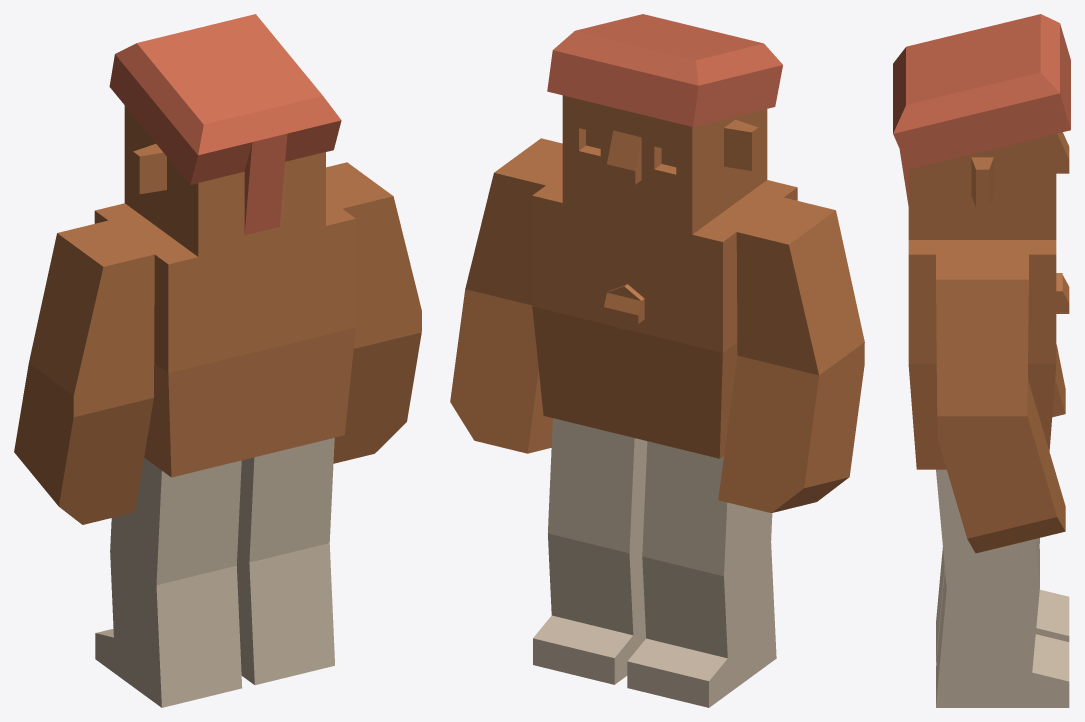
File: pirate_crew.glb
3 views of the same model, side by side, from view 1: azimuth 30°, elevation 25°; view 2: azimuth 150°, elevation 25°; view 3: azimuth 270°, elevation 25° (orthographic).
Parts seen in each view (by area): view 1: body 1, Group 143 (×2), armLeft 1, legLeft 1, legRight 1, armRight 1; view 2: body 1, Group 143 (×2), armLeft 1, legLeft 1, legRight 1, armRight 1; view 3: Group 143 (×2), armRight 1, legRight 1, body 1, legLeft 1, armLeft 1.
Part boxes in pixels (x1,y1,x2,y2): body 1: (94, 197, 355, 477); Group 143 (×2): (109, 14, 341, 256); armLeft 1: (14, 220, 154, 524); legLeft 1: (95, 457, 242, 707); legRight 1: (236, 438, 334, 684); armRight 1: (326, 162, 421, 463); body 1: (532, 173, 797, 458); Group 143 (×2): (547, 14, 782, 234); armLeft 1: (718, 197, 864, 512); legLeft 1: (627, 441, 776, 707); legRight 1: (533, 418, 647, 684); armRight 1: (450, 138, 562, 453); Group 143 (×2): (893, 14, 1070, 239); armRight 1: (936, 254, 1065, 553); legRight 1: (936, 469, 1069, 707); body 1: (908, 240, 1069, 469); legLeft 1: (936, 538, 1069, 662); armLeft 1: (1052, 344, 1065, 417).
Size of the model in its own units: 6.24 by 10.62 by 2.75.
